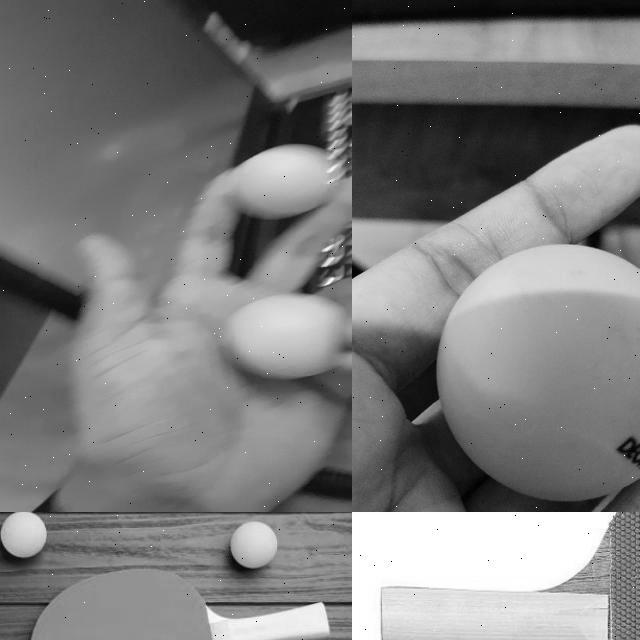ping-pong-ball: (436, 245, 639, 502), (221, 294, 347, 381), (232, 144, 336, 216), (0, 512, 47, 558), (232, 522, 274, 568)
